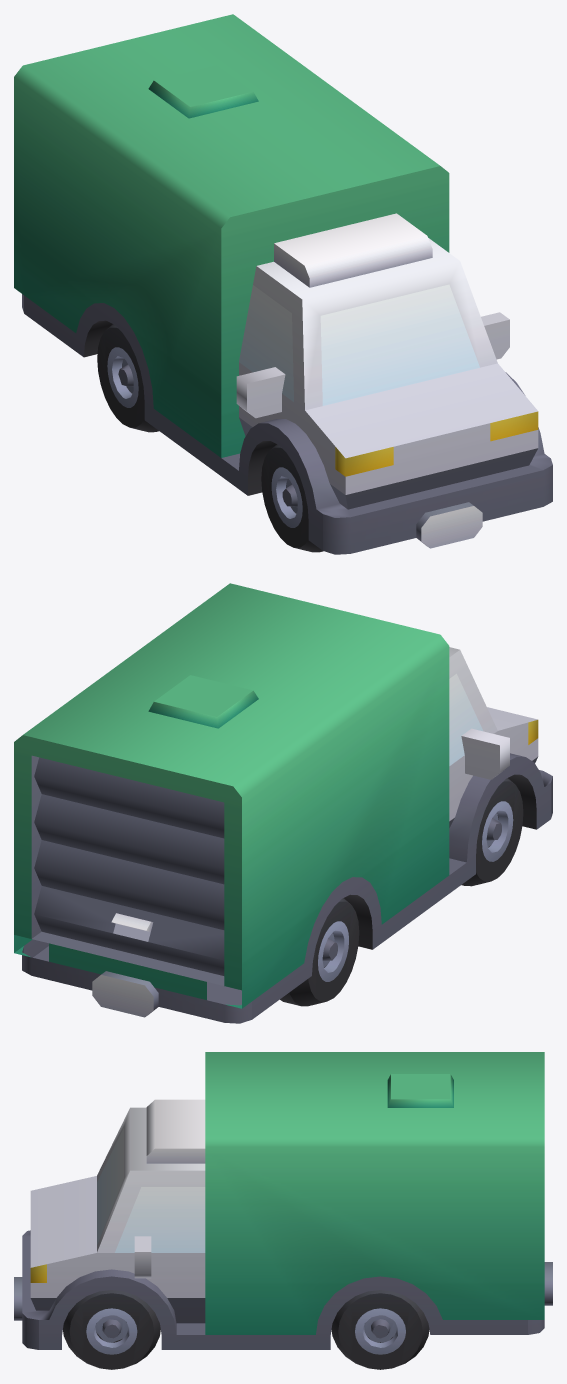
The model's file is traffic_delivery.glb.
3 views of the same model, one above another, from view 1: azimuth 30°, elevation 25°; view 2: azimuth 150°, elevation 25°; view 3: azimuth 270°, elevation 25° (orthographic). The views are drawn at different scales.
Parts seen in each view (by area): view 1: door; view 2: door; view 3: door.
Part boxes in pixels (x1,y1,x2,y2): door: [14, 14, 552, 554]; door: [14, 583, 552, 1023]; door: [14, 1052, 552, 1369].
Size of the model in its own units: 1.5 by 1.65 by 3.25.
Materials: 1 (1 with a texture image).
